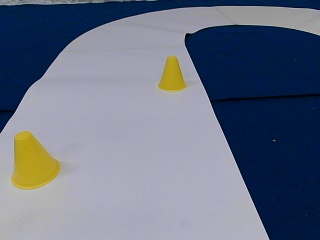cone: (10, 131, 60, 188), (158, 57, 186, 90)
